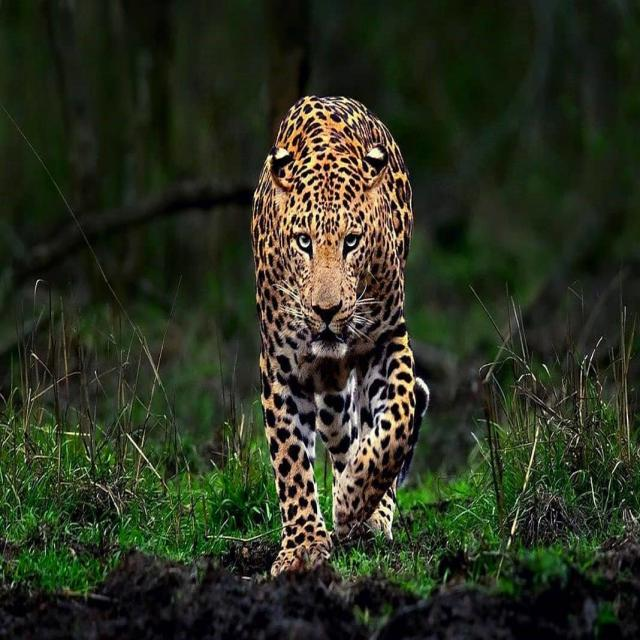leopard: (251, 96, 429, 575)
